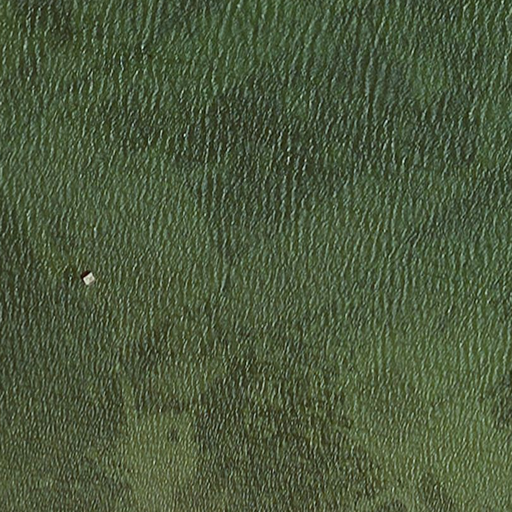ship: (79, 269, 97, 288)
